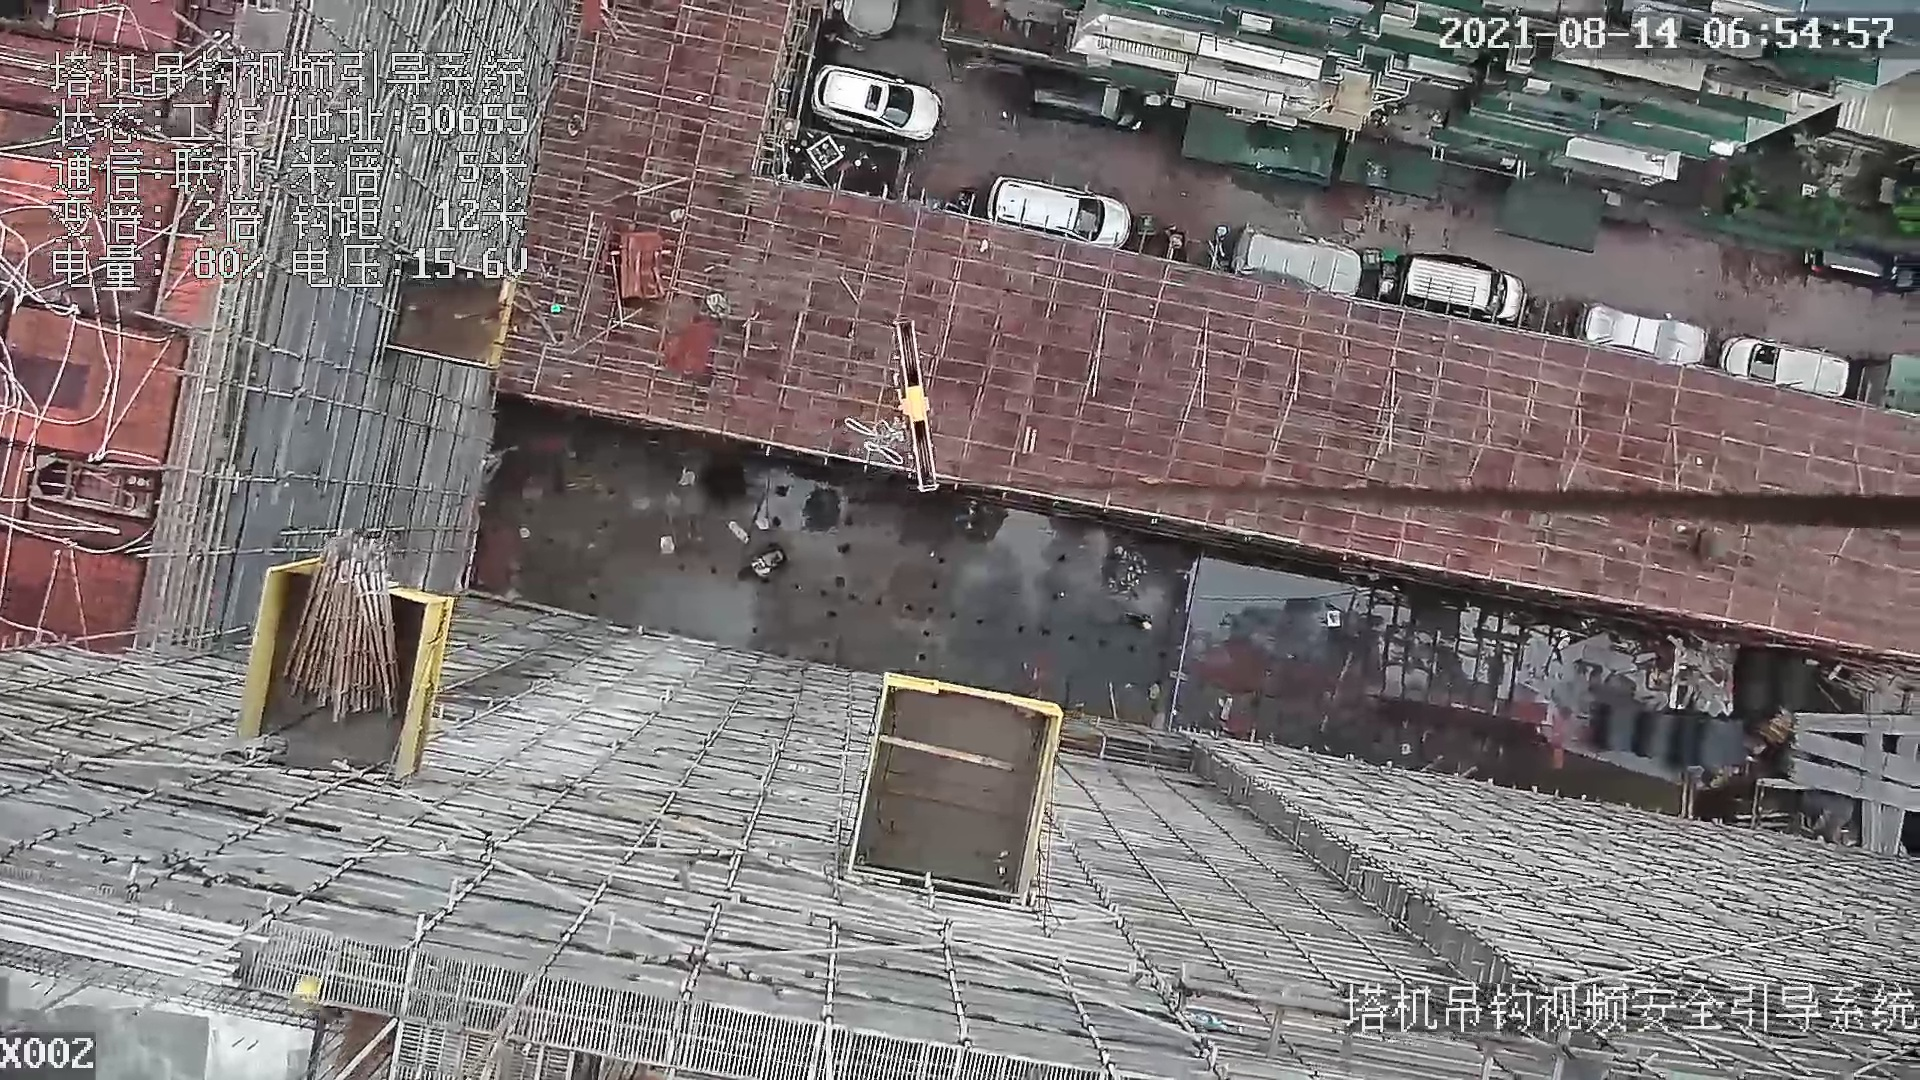hook: (884, 313, 955, 501)
rebar: (5, 885, 240, 992), (1791, 760, 1920, 811), (1797, 732, 1920, 786), (1795, 711, 1920, 735)
scaffold: (285, 531, 404, 721)
